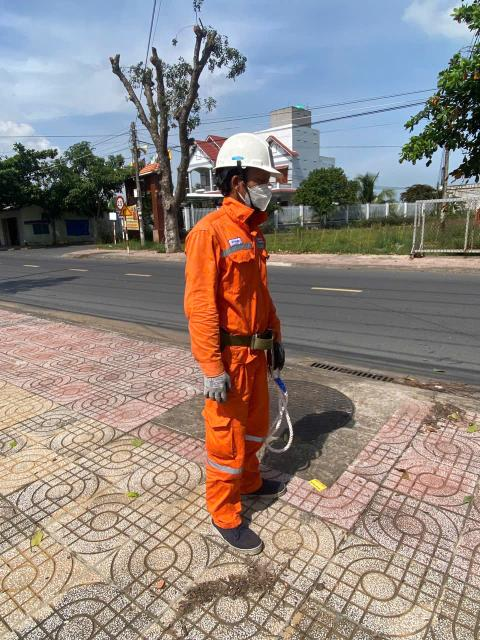gloves: (195, 371, 237, 405), (264, 340, 292, 378)
harness: (210, 318, 275, 360)
helmet: (200, 121, 288, 192)
shoes: (199, 511, 270, 558), (234, 471, 285, 503)
